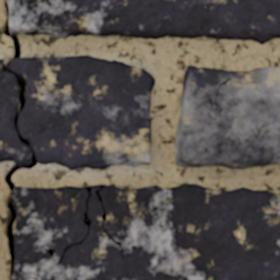brick: (11, 184, 279, 279), (8, 0, 279, 43), (174, 66, 279, 168), (89, 185, 99, 192)
broken_brick: (11, 54, 155, 170), (0, 58, 30, 163)
crack: (0, 0, 38, 278), (40, 185, 124, 266), (40, 0, 44, 4)
